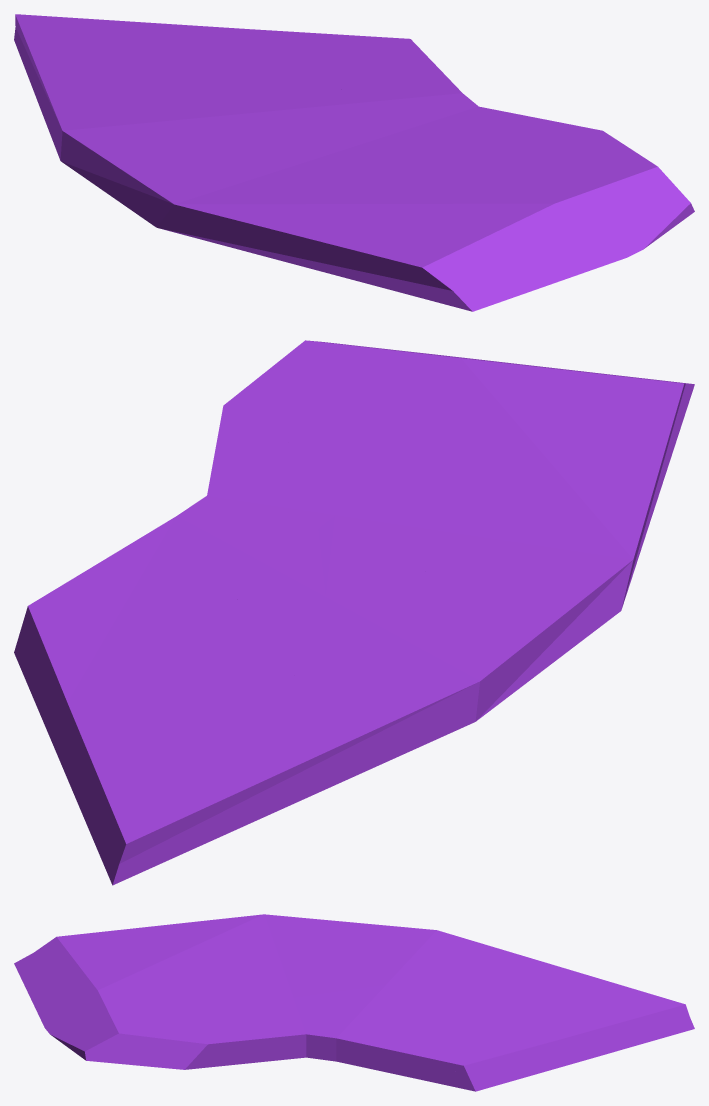
Rendered from Glass_100_2_6_chunks.fbx.
3 renders of one model, top to bottom at view 1: azimuth 30°, elevation 25°; view 2: azimuth 150°, elevation 25°; view 3: azimuth 270°, elevation 25°, orthographic. The views are drawn at different scales.
Visible parts, largest first — view 1: Glass_100_2_6_0, Glass_100_2_6_2, Glass_100_2_6_3, Glass_100_2_6_12, Glass_100_2_6_5, Glass_100_2_6_8, Glass_100_2_6_1, Glass_100_2_6_7, Glass_100_2_6_11, Glass_100_2_6_9, Glass_100_2_6_4, Glass_100_2_6_6; view 2: Glass_100_2_6_0, Glass_100_2_6_12, Glass_100_2_6_3, Glass_100_2_6_2, Glass_100_2_6_8, Glass_100_2_6_5, Glass_100_2_6_1, Glass_100_2_6_11, Glass_100_2_6_7, Glass_100_2_6_6, Glass_100_2_6_9, Glass_100_2_6_4 (+1 smaller); view 3: Glass_100_2_6_0, Glass_100_2_6_12, Glass_100_2_6_3, Glass_100_2_6_2, Glass_100_2_6_8, Glass_100_2_6_1, Glass_100_2_6_6, Glass_100_2_6_5, Glass_100_2_6_7, Glass_100_2_6_11, Glass_100_2_6_9, Glass_100_2_6_10 (+1 smaller).
Part boxes in pixels (box(x1,y1,x2,y2)): Glass_100_2_6_0: box(351, 134, 694, 311); Glass_100_2_6_2: box(137, 159, 386, 279); Glass_100_2_6_3: box(44, 86, 257, 213); Glass_100_2_6_12: box(14, 14, 200, 124); Glass_100_2_6_5: box(253, 118, 403, 196); Glass_100_2_6_8: box(275, 35, 454, 90); Glass_100_2_6_1: box(375, 89, 607, 146); Glass_100_2_6_7: box(271, 85, 458, 127); Glass_100_2_6_11: box(183, 25, 309, 90); Glass_100_2_6_9: box(140, 78, 309, 112); Glass_100_2_6_4: box(183, 102, 312, 140); Glass_100_2_6_6: box(223, 27, 348, 55); Glass_100_2_6_0: box(232, 340, 694, 495); Glass_100_2_6_12: box(91, 670, 368, 885); Glass_100_2_6_3: box(333, 561, 601, 769); Glass_100_2_6_2: box(466, 423, 672, 632); Glass_100_2_6_8: box(24, 528, 238, 659); Glass_100_2_6_5: box(318, 454, 516, 575); Glass_100_2_6_1: box(166, 399, 358, 528); Glass_100_2_6_11: box(72, 599, 248, 744); Glass_100_2_6_7: box(156, 522, 325, 598); Glass_100_2_6_6: box(14, 617, 140, 784); Glass_100_2_6_9: box(239, 594, 337, 680); Glass_100_2_6_4: box(322, 567, 411, 651); Glass_100_2_6_0: box(14, 931, 267, 1069); Glass_100_2_6_12: box(469, 958, 694, 1037); Glass_100_2_6_3: box(300, 917, 530, 974); Glass_100_2_6_2: box(103, 914, 309, 960); Glass_100_2_6_8: box(354, 1009, 497, 1071); Glass_100_2_6_1: box(199, 995, 345, 1062); Glass_100_2_6_6: box(369, 1027, 599, 1091); Glass_100_2_6_5: box(184, 956, 353, 999); Glass_100_2_6_7: box(303, 986, 406, 1068); Glass_100_2_6_11: box(408, 996, 588, 1043); Glass_100_2_6_9: box(383, 970, 478, 1008); Glass_100_2_6_10: box(562, 1019, 664, 1055).
Bounding box in the file's own units: 539 × 144 × 1099.
